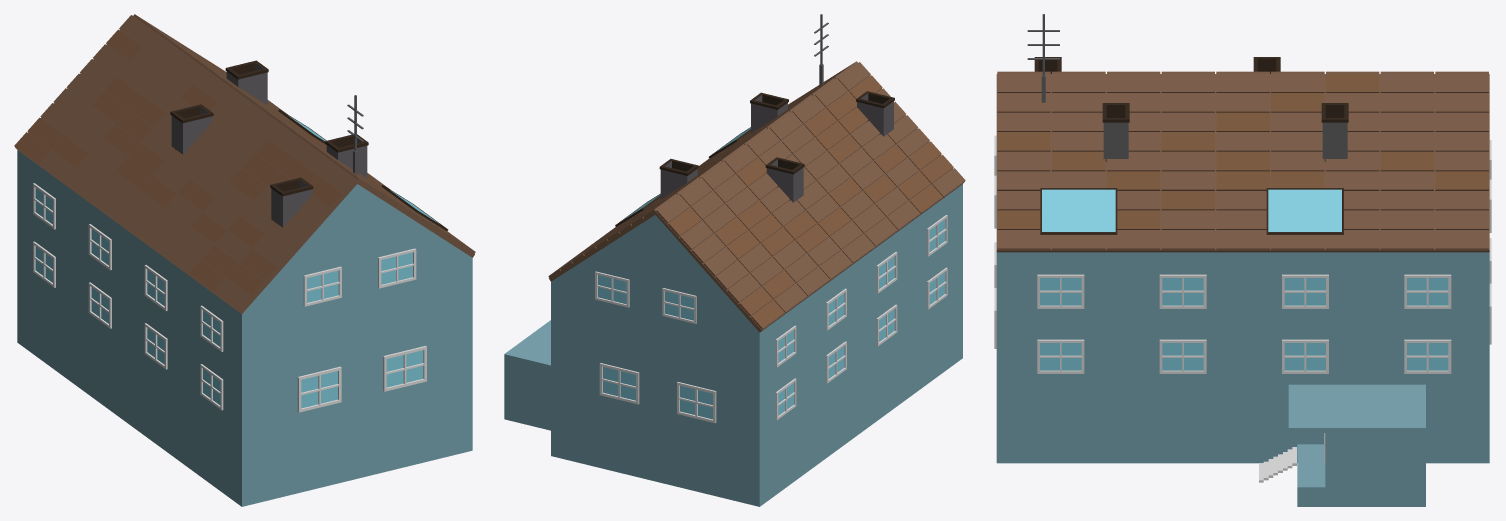
File: house3_H.fbx
3 views of the same model, side by side, from view 1: azimuth 30°, elevation 25°; view 2: azimuth 150°, elevation 25°; view 3: azimuth 270°, elevation 25° (orthographic). The views are drawn at different scales.
Parts seen in each view (by area): view 1: Cube.067, Cube.077, Cube.075, Cube.081, Cube.080, Cube.079, Cube.074, Cube.070; view 2: Cube.067, Cube.077, Cube.068, Cube.083, Cube.081, Cube.080, Cube.079, Cube.082, Cube.070; view 3: Cube.067, Cube.068, Cube.069, Cube.073, Cube.076, Cube.078, Cube.070, Cube.079, Cube.071.
Boxes of the visible parts, x1,y1,x2,y2 form: Cube.067: (14, 14, 475, 506); Cube.077: (242, 184, 472, 314); Cube.075: (297, 346, 426, 412); Cube.081: (33, 241, 223, 410); Cube.080: (33, 183, 223, 351); Cube.079: (170, 104, 313, 227); Cube.074: (303, 248, 416, 306); Cube.070: (225, 60, 368, 178); Cube.067: (548, 61, 965, 506); Cube.077: (551, 215, 759, 332); Cube.068: (504, 320, 550, 430); Cube.083: (599, 363, 716, 423); Cube.081: (775, 267, 947, 420); Cube.080: (775, 215, 947, 367); Cube.079: (765, 91, 894, 202); Cube.082: (595, 271, 696, 323); Cube.070: (659, 92, 788, 198); Cube.067: (996, 71, 1489, 463); Cube.068: (1288, 384, 1425, 506); Cube.069: (1037, 274, 1451, 308); Cube.073: (1037, 339, 1451, 373); Cube.076: (1040, 188, 1117, 234); Cube.078: (1266, 188, 1343, 234); Cube.070: (1102, 103, 1348, 161); Cube.079: (1034, 57, 1280, 73); Cube.071: (1259, 447, 1296, 482).
Size of the model in its own units: 15.36 by 19.17 by 16.93.
